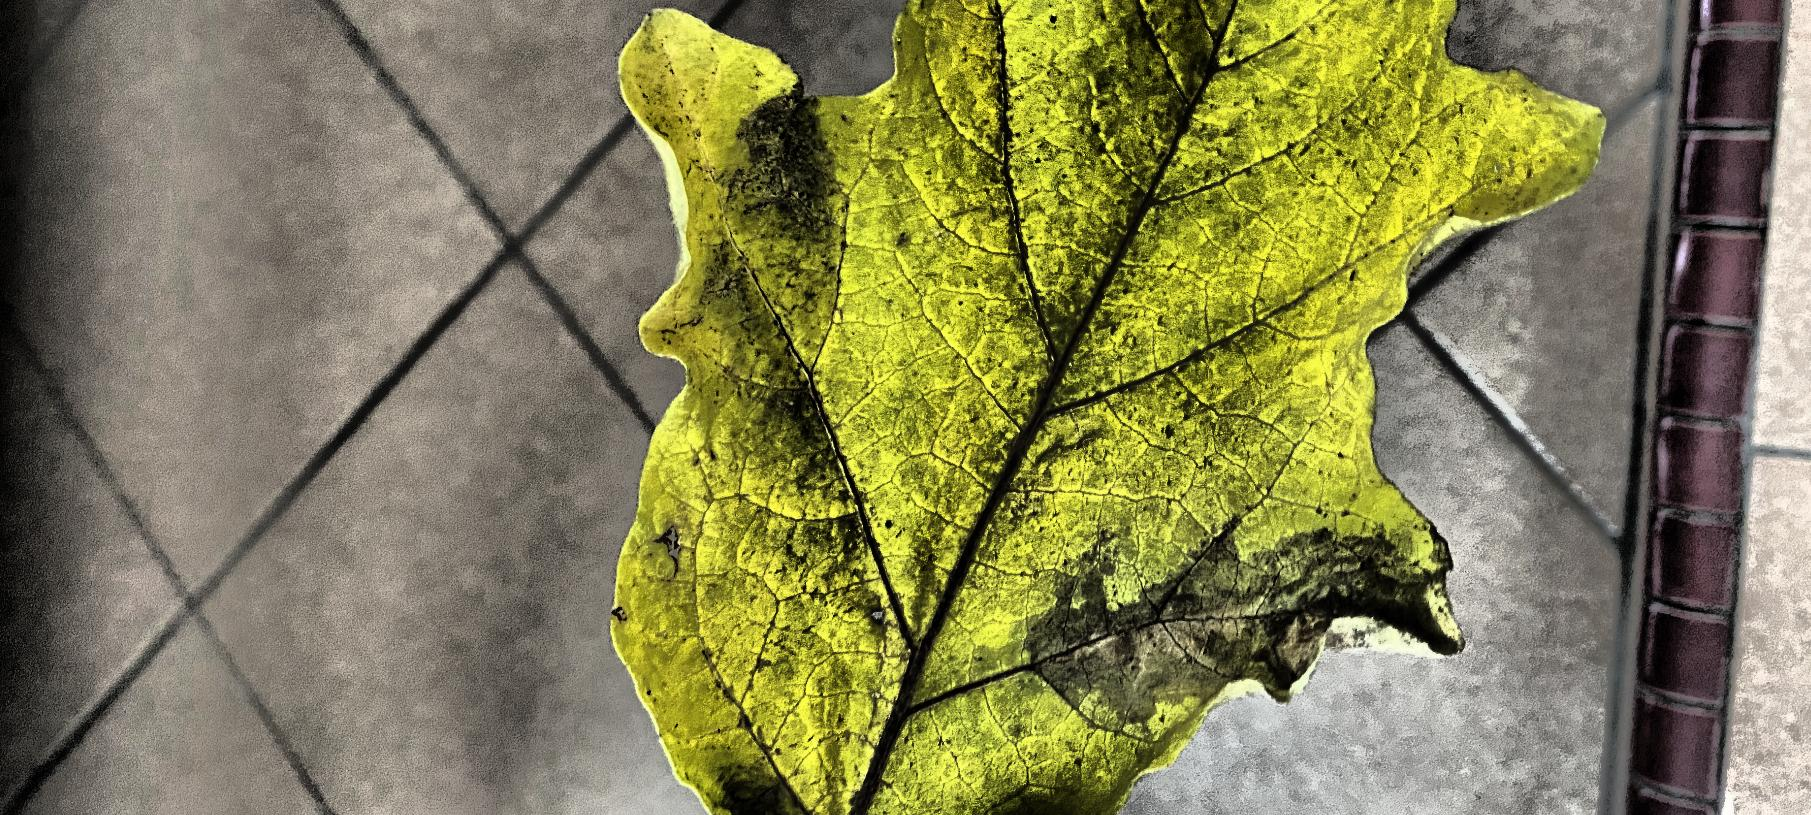Critical Stress: (0, 165, 1329, 815)
